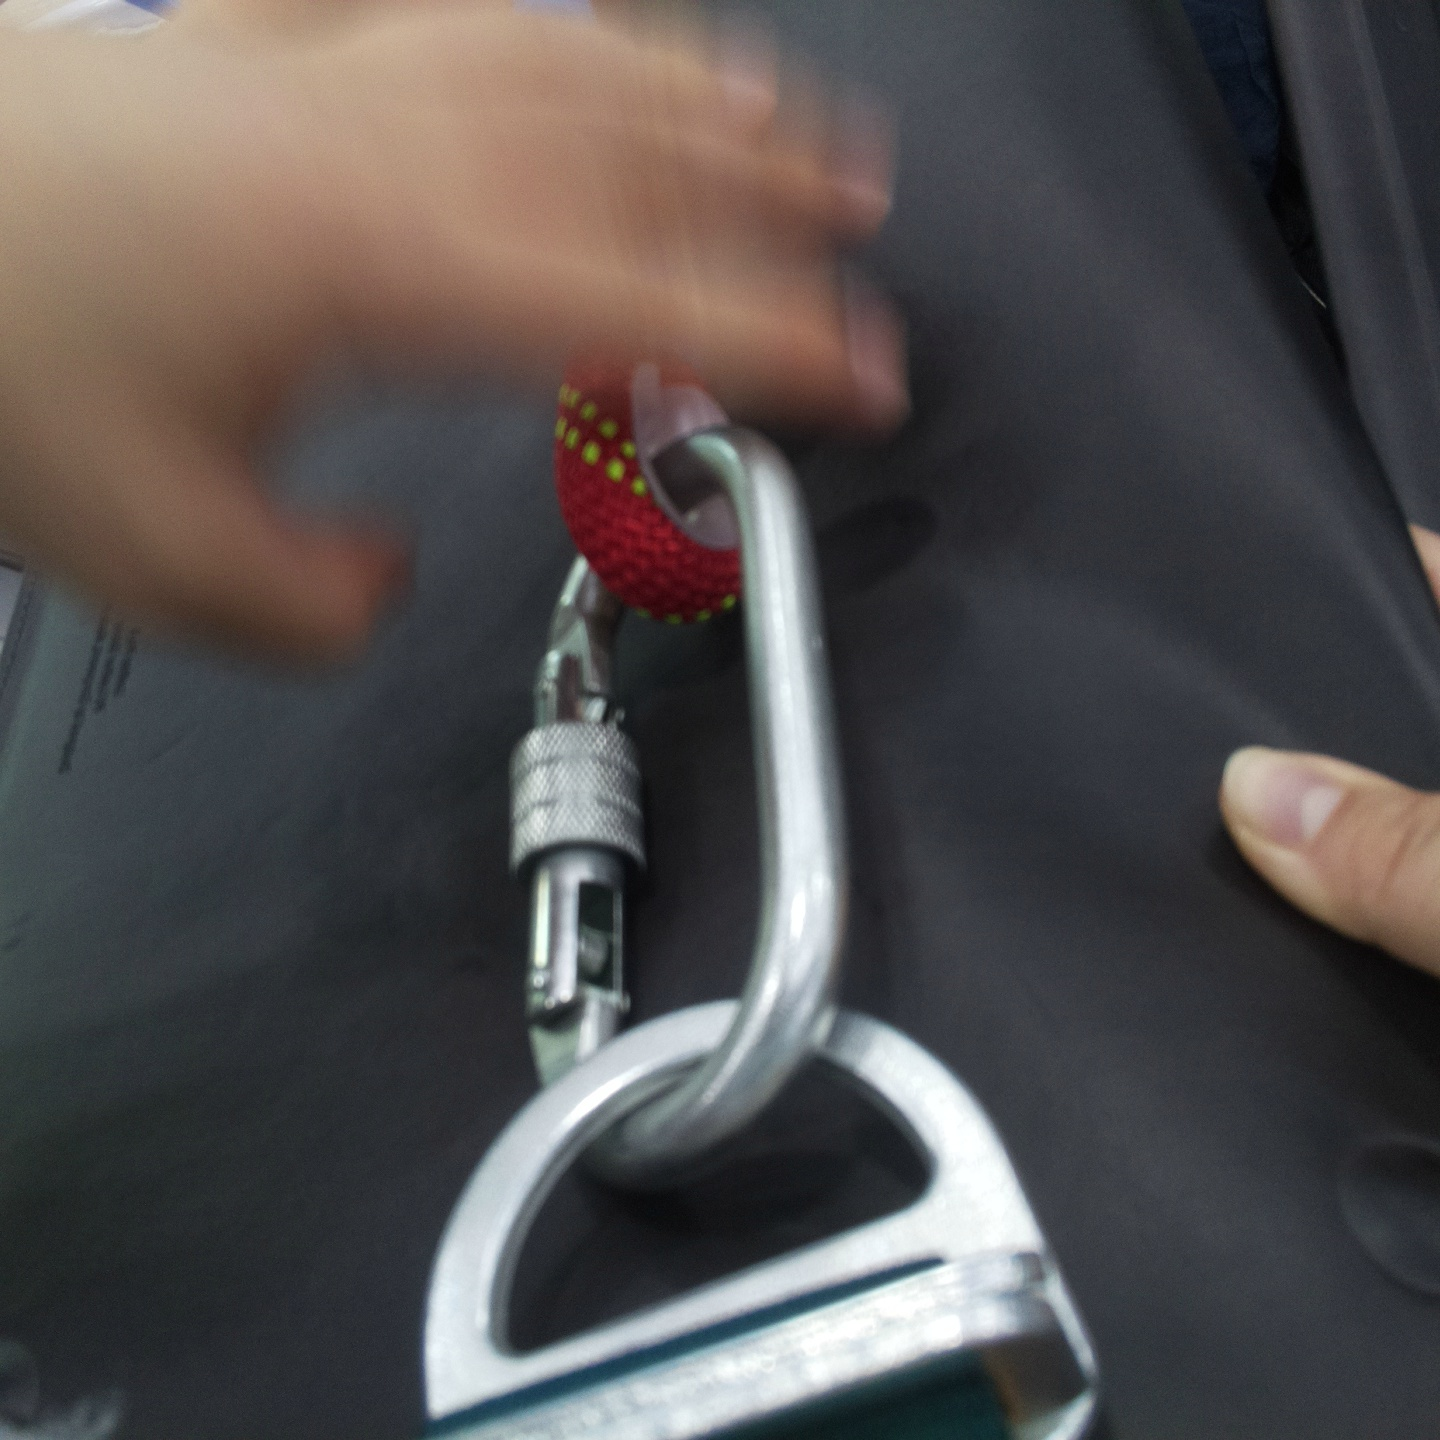SUCCESS: (431, 723, 1062, 1358)
